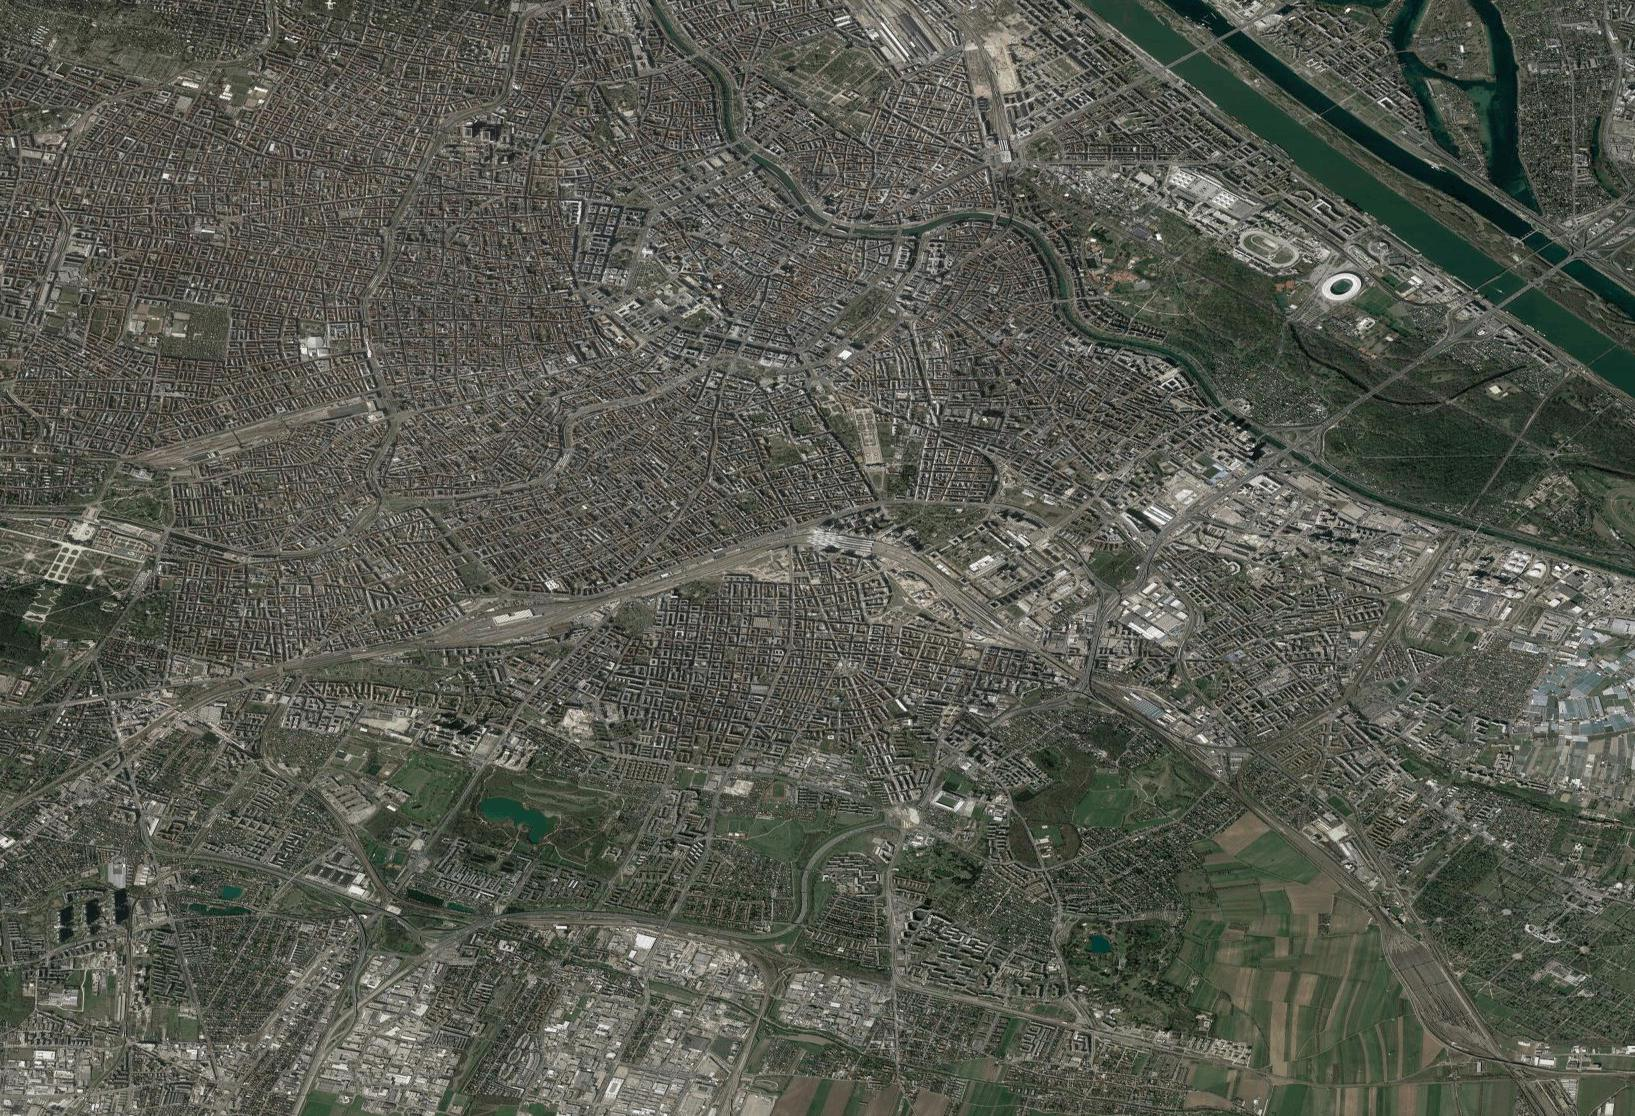train_station: (786, 524, 887, 563), (466, 609, 557, 638)
